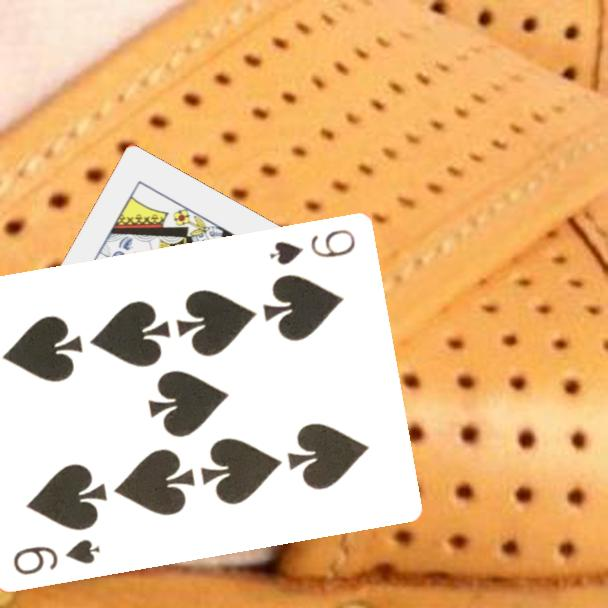s09: (266, 225, 359, 268), (10, 535, 104, 577)
